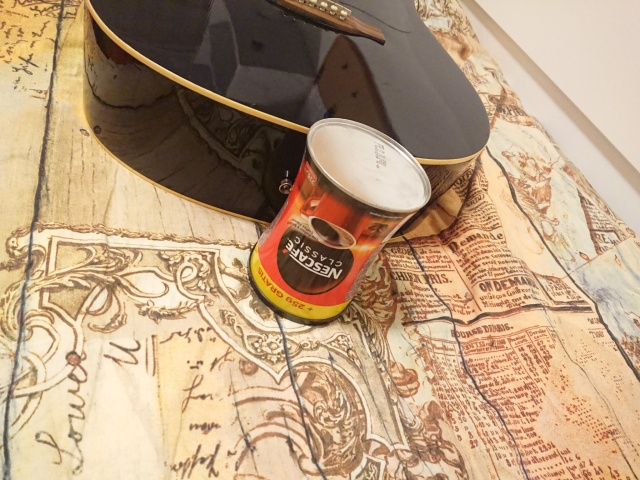Nescafe Classic 225g: (243, 114, 435, 329)
